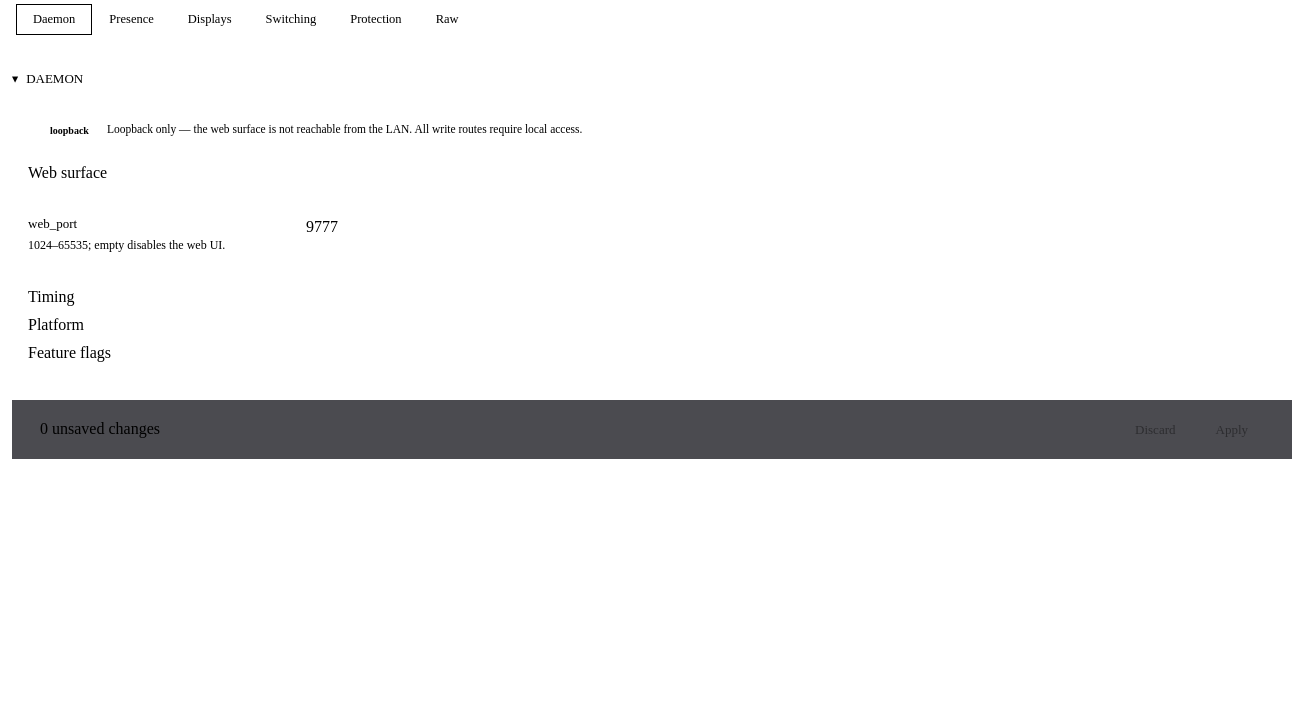
Scenario: Config › renders config path in the file viewer header
Click the button "Raw" at (447, 20), box 419,4 -> 476,35
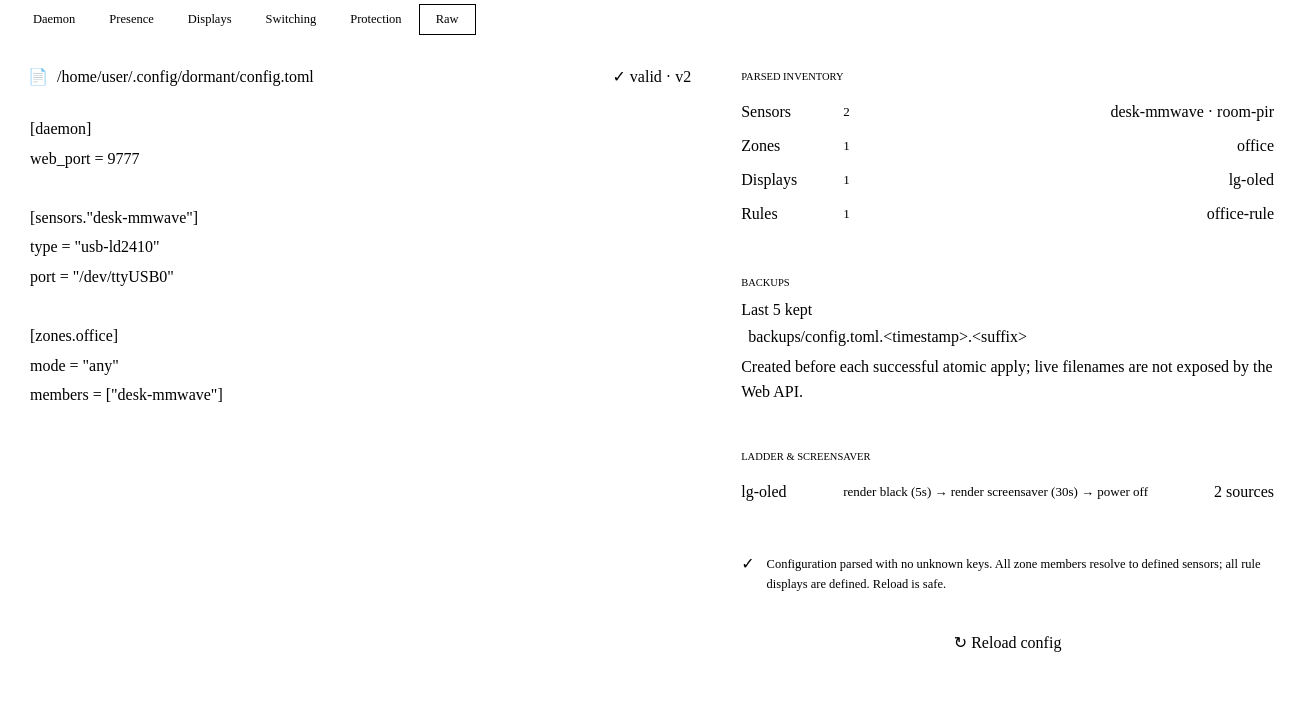
Check: the text "/home/user/.config/dormant/config.toml" is shown, box 57,68 -> 314,86
